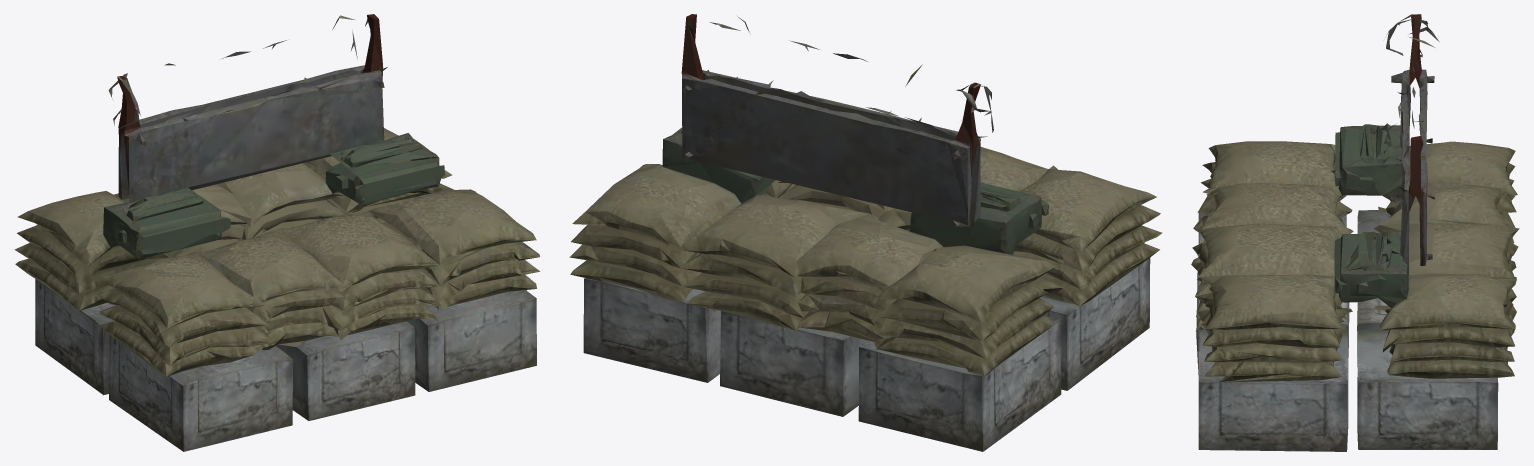
File: military_barbed_barrier.glb
3 views of the same model, side by side, from view 1: azimuth 30°, elevation 25°; view 2: azimuth 150°, elevation 25°; view 3: azimuth 270°, elevation 25° (orthographic). The views are drawn at different scales.
Size of the model in its own units: 1.93 by 1.4 by 1.44.
1 material, 1 textured.
